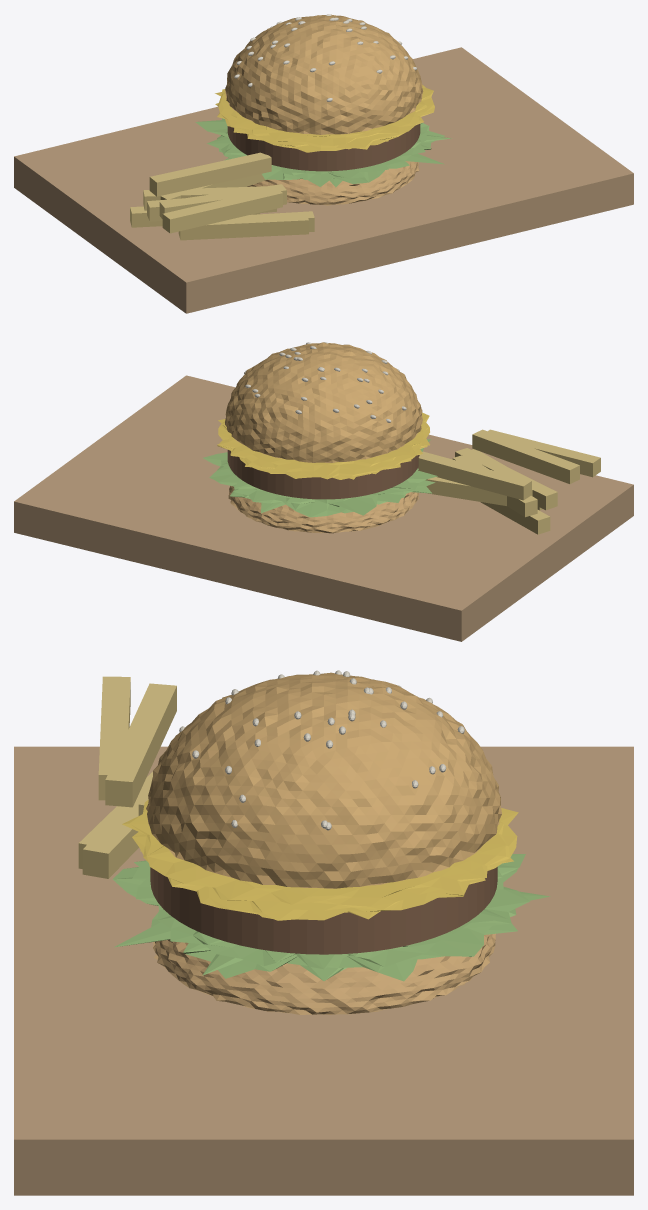
File: hamburguer.glb
3 renders of one model, top to bottom at view 1: azimuth 30°, elevation 25°; view 2: azimuth 150°, elevation 25°; view 3: azimuth 270°, elevation 25°, orthographic. The views are drawn at different scales.
Parts seen in each view (by area): view 1: hamburguer_0, hamburguer_8, hamburguer_4, hamburguer_3, hamburguer_2, hamburguer_1, hamburguer_57, hamburguer_54, hamburguer_49, hamburguer_51, hamburguer_53, hamburguer_55 (+2 smaller); view 2: hamburguer_0, hamburguer_8, hamburguer_2, hamburguer_4, hamburguer_3, hamburguer_1, hamburguer_57, hamburguer_51, hamburguer_54, hamburguer_50, hamburguer_56, hamburguer_52 (+1 smaller); view 3: hamburguer_0, hamburguer_8, hamburguer_4, hamburguer_1, hamburguer_3, hamburguer_2, hamburguer_51, hamburguer_54, hamburguer_55, hamburguer_49.
Boxes of the visible parts, bbox=[...] form: hamburguer_0: bbox=[14, 47, 633, 313]; hamburguer_8: bbox=[225, 14, 423, 134]; hamburguer_4: bbox=[215, 85, 434, 152]; hamburguer_3: bbox=[227, 124, 420, 171]; hamburguer_2: bbox=[195, 118, 451, 187]; hamburguer_1: bbox=[247, 161, 419, 205]; hamburguer_57: bbox=[149, 152, 271, 196]; hamburguer_54: bbox=[162, 188, 282, 233]; hamburguer_49: bbox=[178, 215, 308, 240]; hamburguer_51: bbox=[159, 184, 286, 218]; hamburguer_53: bbox=[143, 186, 265, 210]; hamburguer_55: bbox=[221, 211, 314, 231]; hamburguer_0: bbox=[14, 375, 633, 641]; hamburguer_8: bbox=[225, 342, 422, 462]; hamburguer_2: bbox=[203, 439, 437, 517]; hamburguer_4: bbox=[217, 412, 429, 479]; hamburguer_3: bbox=[227, 450, 419, 499]; hamburguer_1: bbox=[228, 486, 419, 533]; hamburguer_57: bbox=[418, 451, 531, 500]; hamburguer_51: bbox=[472, 429, 579, 483]; hamburguer_54: bbox=[487, 429, 600, 477]; hamburguer_50: bbox=[425, 477, 532, 505]; hamburguer_56: bbox=[462, 450, 557, 510]; hamburguer_52: bbox=[480, 502, 550, 534]; hamburguer_0: bbox=[14, 746, 633, 1195]; hamburguer_8: bbox=[146, 672, 501, 888]; hamburguer_4: bbox=[122, 799, 518, 920]; hamburguer_1: bbox=[153, 933, 495, 1014]; hamburguer_3: bbox=[150, 867, 497, 954]; hamburguer_2: bbox=[112, 854, 550, 981]; hamburguer_51: bbox=[105, 683, 176, 807]; hamburguer_54: bbox=[98, 676, 130, 800]; hamburguer_55: bbox=[82, 778, 151, 878]; hamburguer_49: bbox=[78, 772, 152, 868].
Bounding box in the file's own units: 0.3 × 0.1084 × 0.2.
